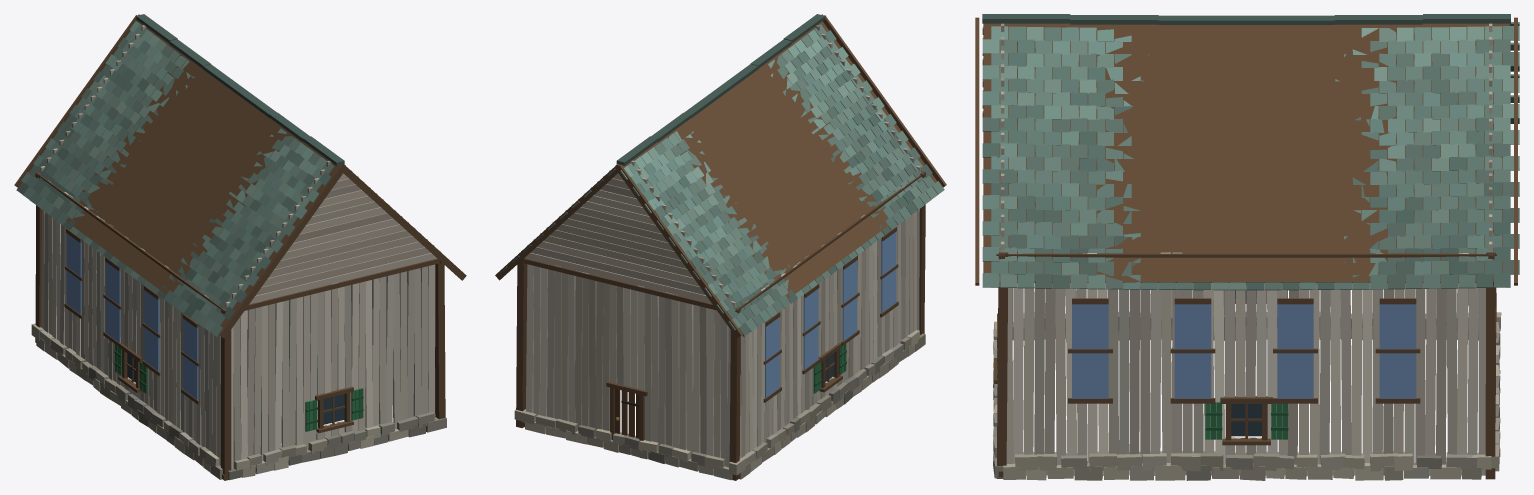
Rendered from capela_3.glb.
3 renders of one model, left to right at view 1: azimuth 30°, elevation 25°; view 2: azimuth 150°, elevation 25°; view 3: azimuth 270°, elevation 25°, orthographic. The views are drawn at different scales.
Visible parts, largest first — view 1: Madeira, Telhado, Pedra, Vidro; view 2: Madeira, Telhado, Pedra, Vidro; view 3: Madeira, Telhado, Pedra, Vidro.
Boxes of the visible parts, x1=… form: Madeira: x1=14, y1=14, x2=466, y2=480; Telhado: x1=16, y1=14, x2=344, y2=337; Pedra: x1=31, y1=323, x2=446, y2=480; Vidro: x1=66, y1=233, x2=344, y2=424; Madeira: x1=495, y1=14, x2=946, y2=480; Telhado: x1=500, y1=14, x2=944, y2=336; Pedra: x1=514, y1=330, x2=925, y2=480; Vidro: x1=765, y1=232, x2=896, y2=397; Madeira: x1=975, y1=17, x2=1517, y2=479; Telhado: x1=982, y1=14, x2=1519, y2=290; Pedra: x1=993, y1=311, x2=1501, y2=480; Vidro: x1=1072, y1=283, x2=1416, y2=436.
Size of the model in its own units: 9.29 by 10.63 by 13.38.
